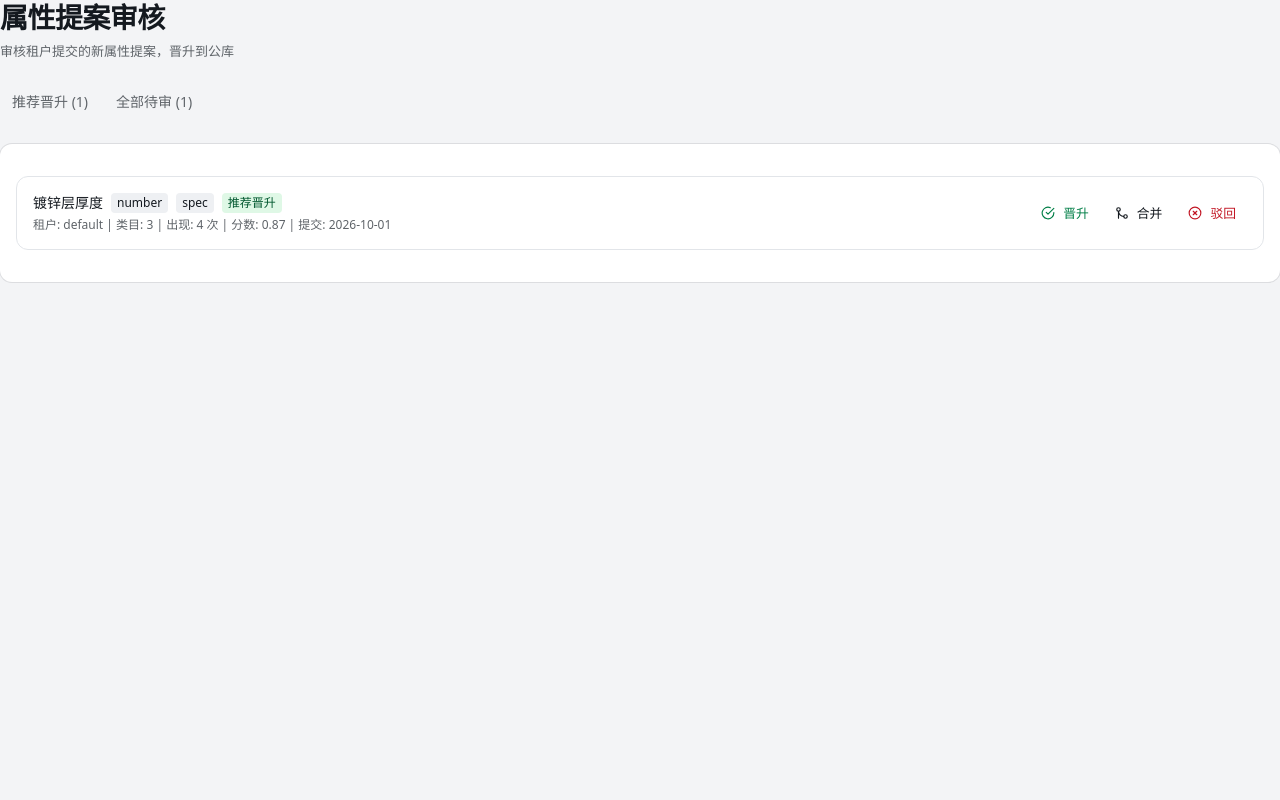
属性提案审核 · 审批动作 › 驳回失败同样有出口（action=reject 走同一 review 动作）
Step 1. Click the button "驳回" → click(1212, 213), box [1177, 199, 1247, 227]
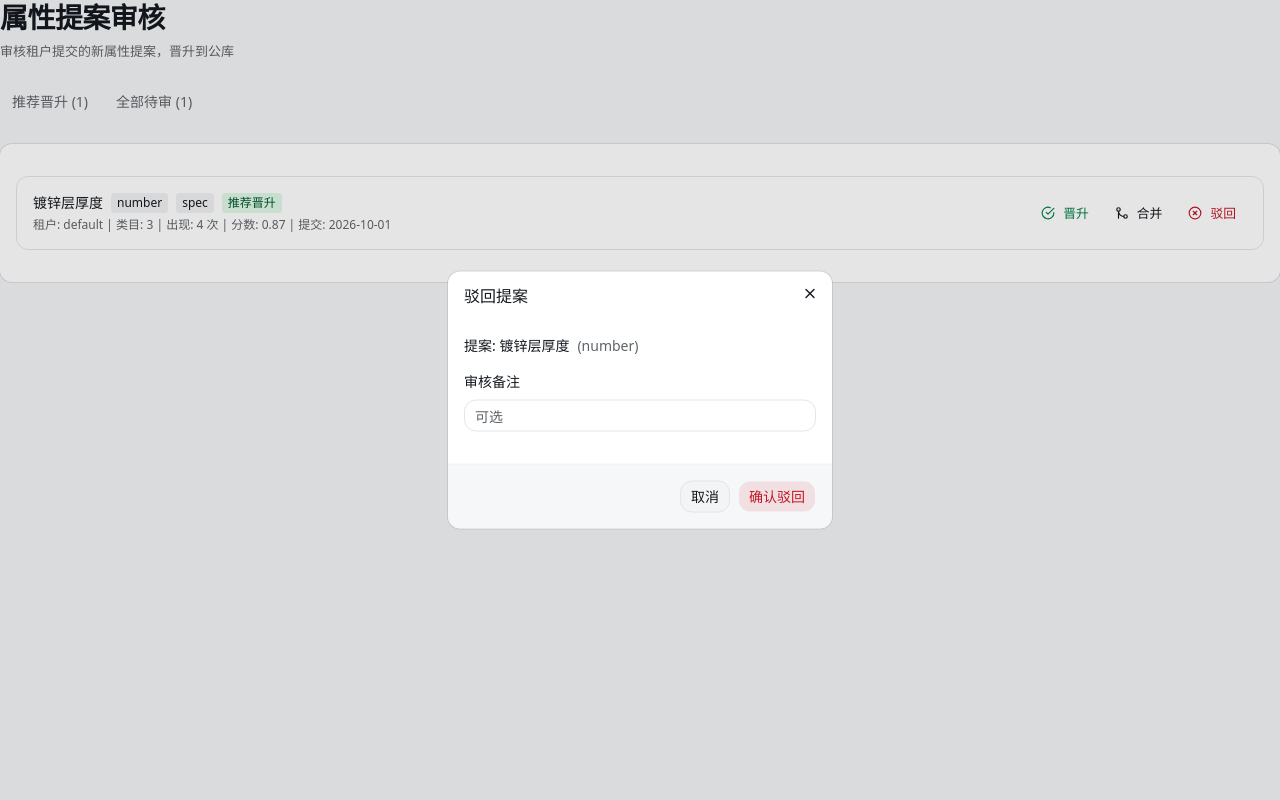
Step 2. Click the button "确认驳回" → click(777, 496), box [738, 480, 816, 512]
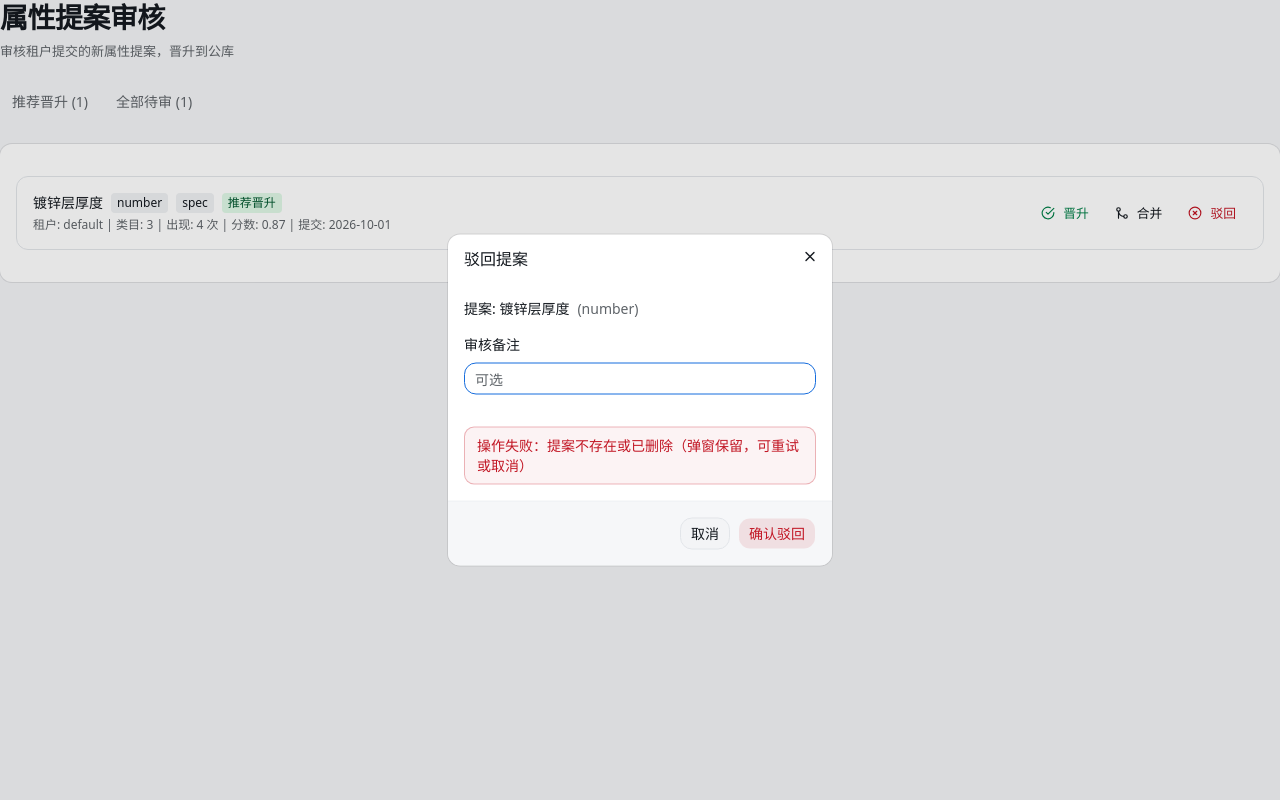
Now the message "操作失败：提案不存在或已删除（弹窗保留，可重试或取消）" is shown, box [464, 426, 816, 484]
